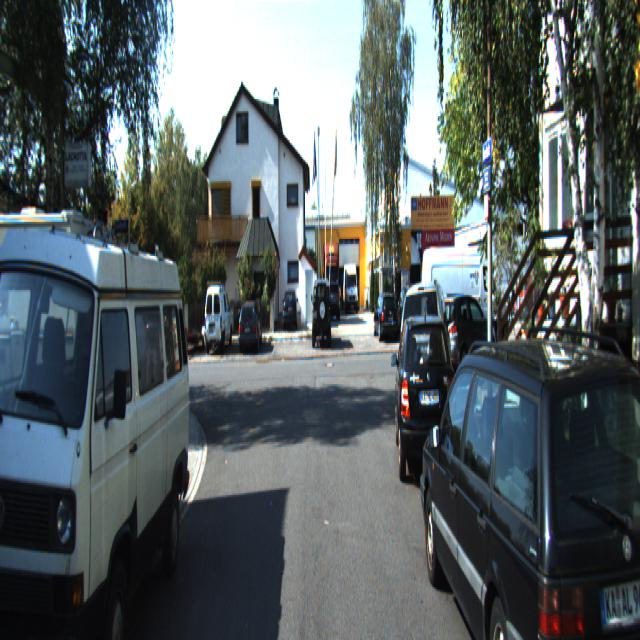Car: (0, 196, 193, 638), (415, 319, 639, 638), (0, 210, 126, 450), (393, 308, 461, 486), (419, 240, 508, 351), (399, 274, 456, 415), (203, 282, 233, 355), (371, 288, 398, 342), (310, 277, 330, 348), (236, 302, 260, 355), (322, 236, 336, 312), (341, 257, 356, 311)
